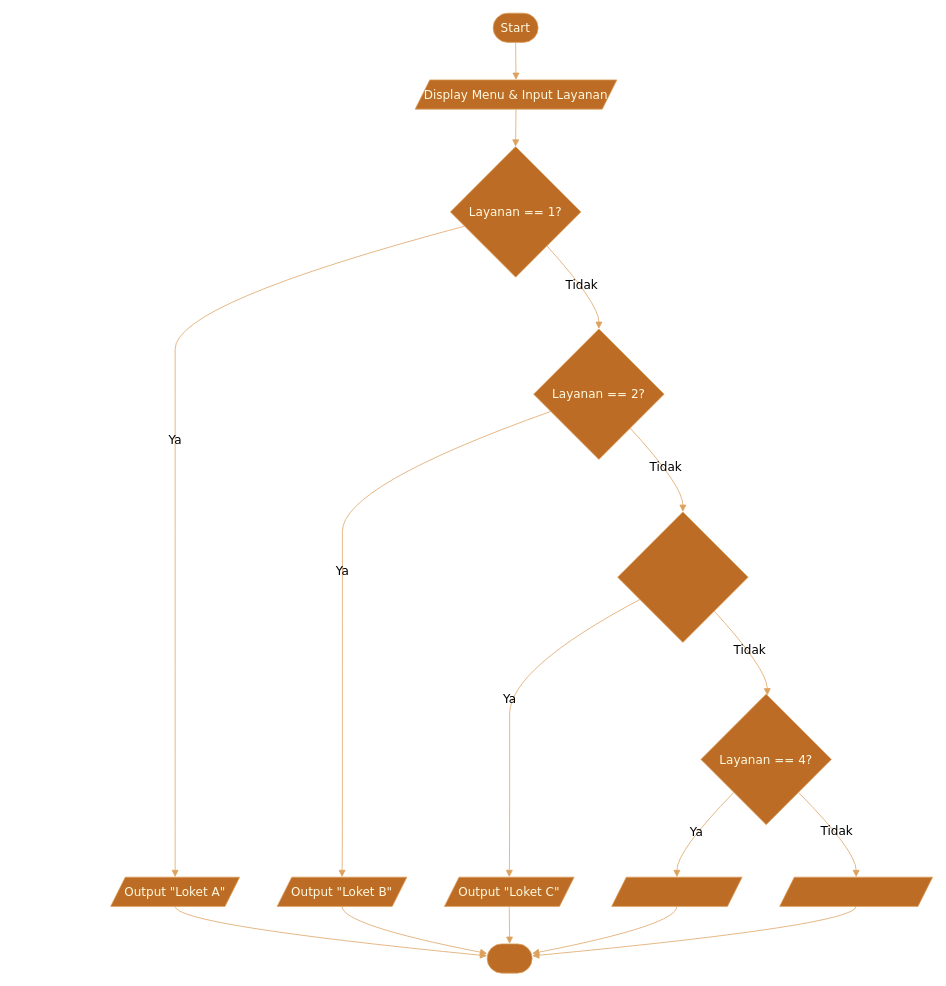
Some shapes in this 946 by 986 pixel diagram are drawn without their labels. Here are the shapes that lost their labels. From the top down, the centre of each, then its label:
(x=682, y=576): Layanan == 3?
(x=676, y=891): Output "Loket D"
(x=856, y=891): Output "Terimakasih"
(x=509, y=958): End
